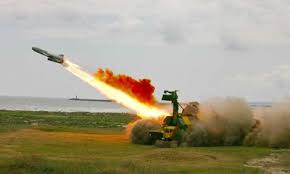ten_lua: (28, 46, 64, 66)
